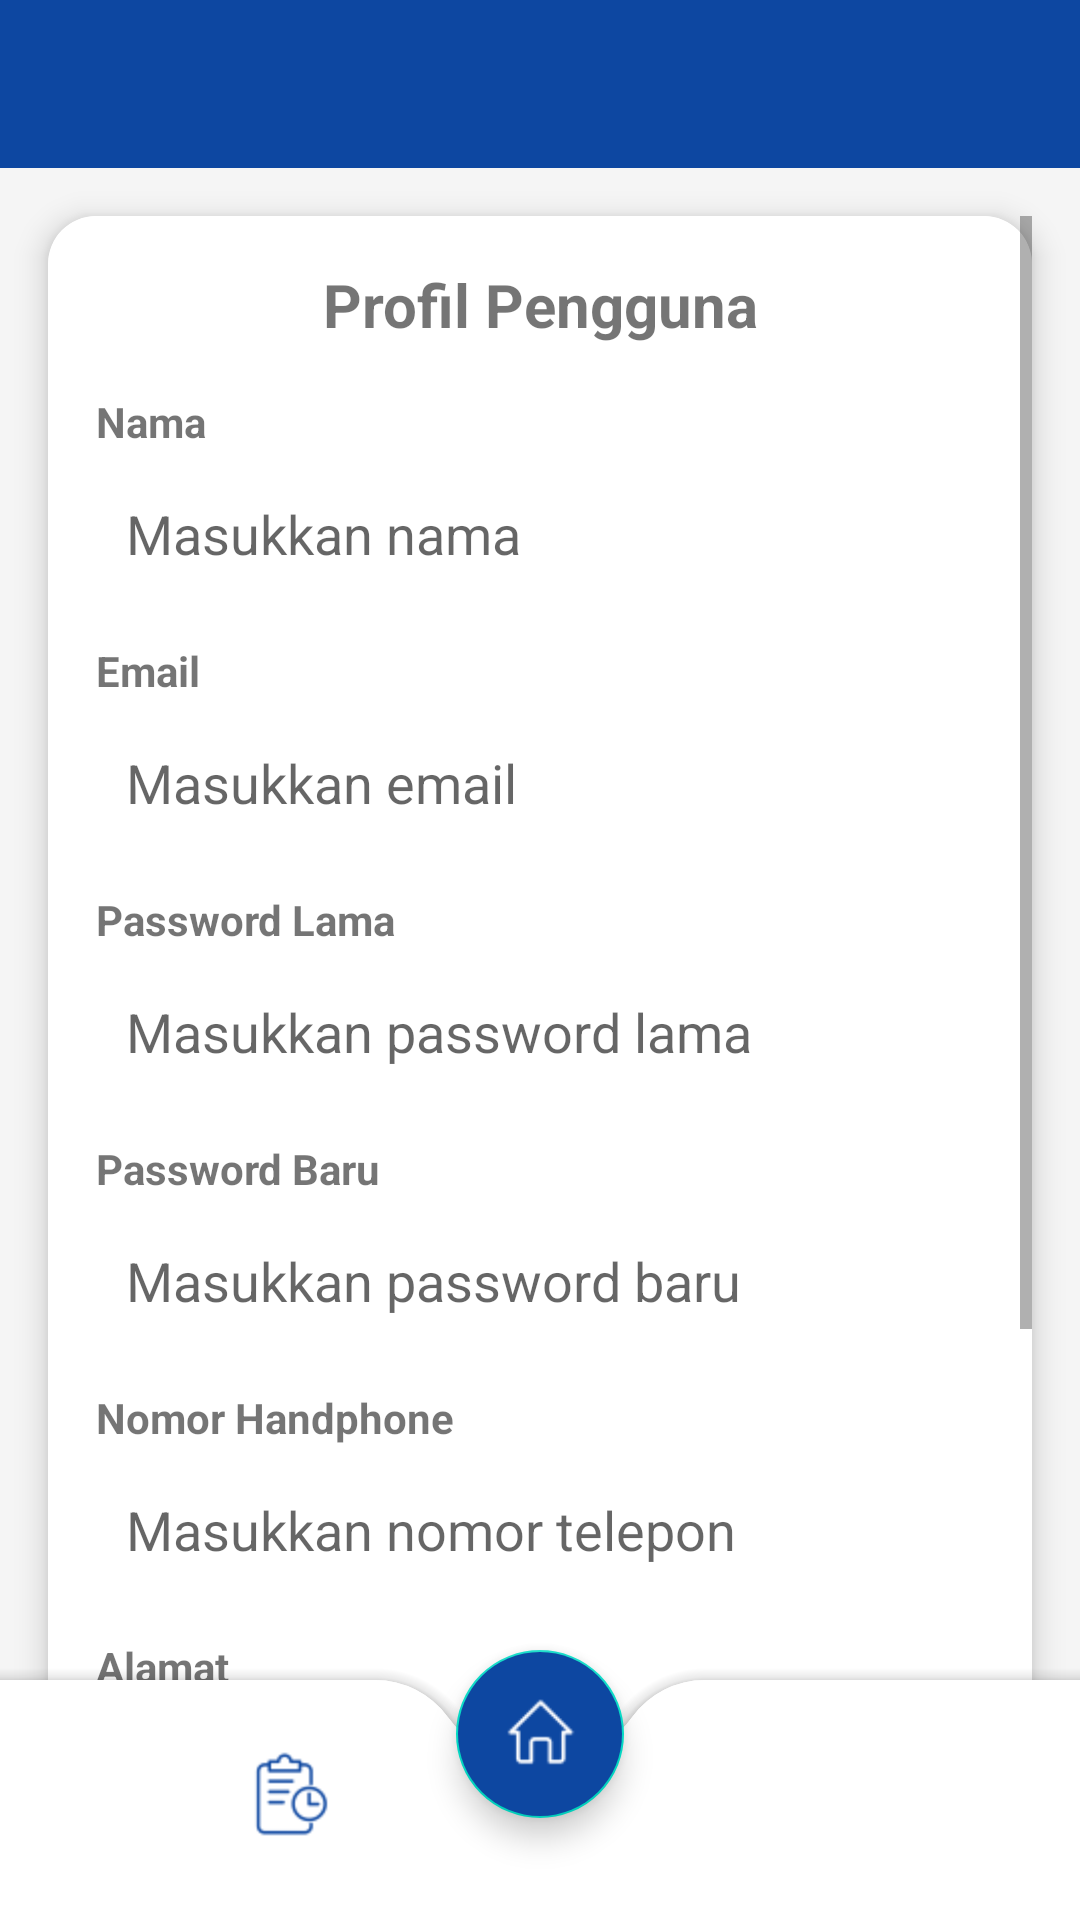

Point at icon controls on the screen. Image size 1080 × 1920, points as (x,y).
History: (292,1794)
home: (540,1757)
